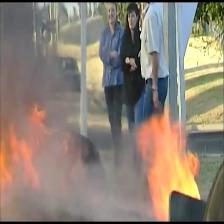fire: (126, 111, 205, 221), (0, 91, 58, 199)
smoke: (51, 143, 132, 221)
